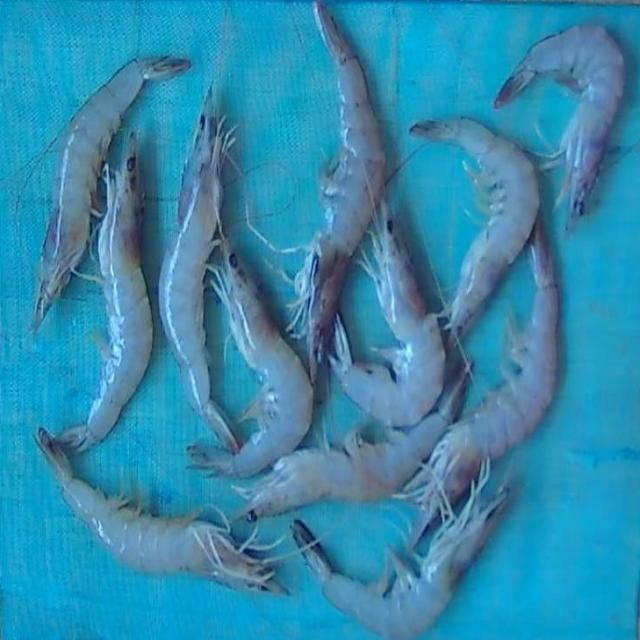shrimp: (411, 220, 559, 516), (32, 56, 188, 330), (35, 429, 283, 593), (291, 460, 509, 639), (239, 357, 475, 522), (290, 1, 385, 382), (189, 221, 313, 477), (54, 133, 152, 451), (158, 87, 238, 453), (410, 117, 539, 338), (329, 200, 446, 428), (495, 25, 623, 227)
